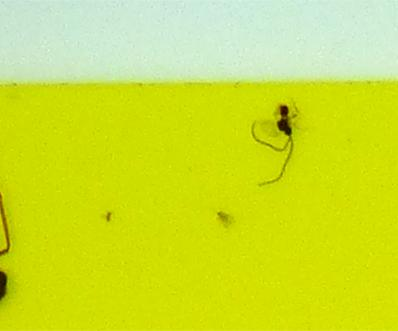Hymenoptera: (250, 100, 298, 187)
